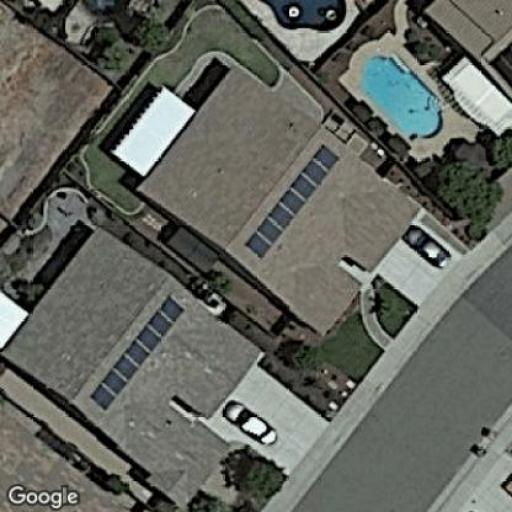solar-panel: (89, 294, 187, 410), (244, 145, 342, 259)
